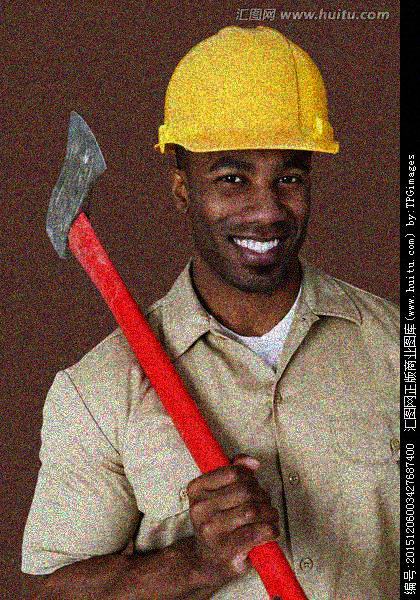helmet: (150, 24, 343, 293)
